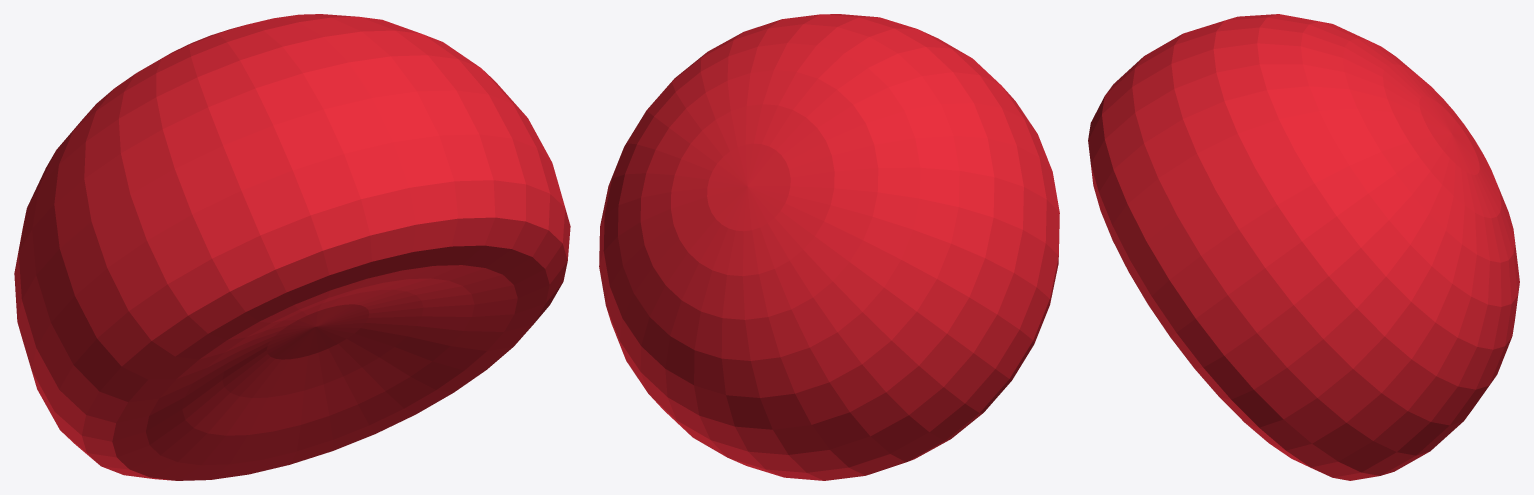
The model's file is funda_bila.fbx.
3 views of the same model, side by side, from view 1: azimuth 30°, elevation 25°; view 2: azimuth 150°, elevation 25°; view 3: azimuth 270°, elevation 25° (orthographic). The views are drawn at different scales.
Parts seen in each view (by area): view 1: Sphere.001; view 2: Sphere.001; view 3: Sphere.001.
Boxes of the visible parts, x1,y1,x2,y2 form: Sphere.001: (14, 14, 570, 480); Sphere.001: (599, 14, 1059, 480); Sphere.001: (1088, 14, 1519, 480).
Size of the model in its own units: 24.4 by 22.9 by 21.62.
